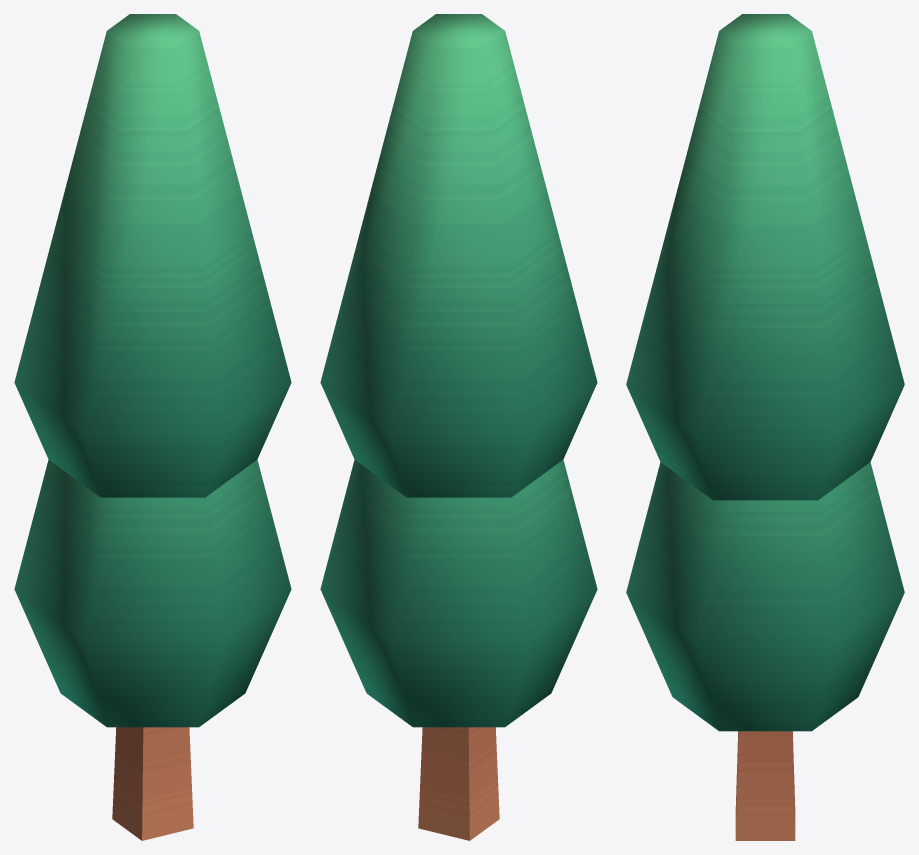
File: nature.glb
The picture shows the model from 3 angles, left to right: view 1: azimuth 30°, elevation 25°; view 2: azimuth 150°, elevation 25°; view 3: azimuth 270°, elevation 25°; orthographic projection.
Parts seen in each view (by area): view 1: tree-large, tree-small; view 2: tree-large, tree-small; view 3: tree-large, tree-small.
Part boxes in pixels (bbox=[...]): tree-large: bbox=[14, 14, 291, 840]; tree-small: bbox=[14, 459, 291, 840]; tree-large: bbox=[320, 14, 597, 840]; tree-small: bbox=[320, 459, 597, 840]; tree-large: bbox=[626, 14, 904, 840]; tree-small: bbox=[626, 462, 904, 731].
Size of the model in its own units: 0.2104 by 0.767 by 0.243.
1 material, 1 textured.
